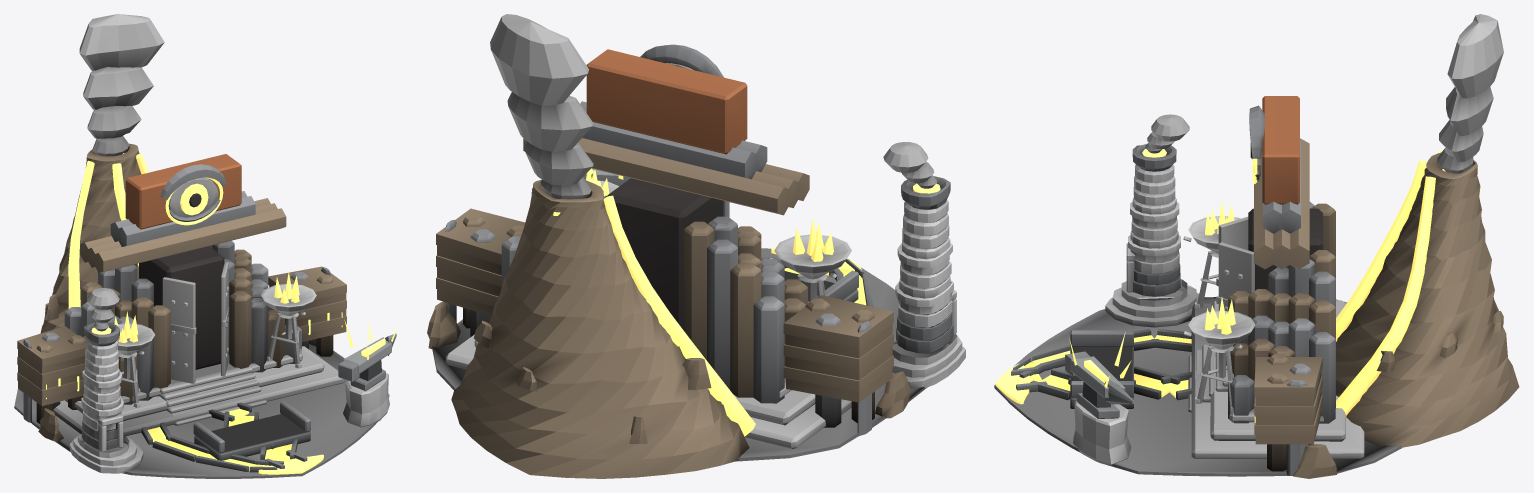
The model's file is gate-of-etna-l2.glb.
3 renders of one model, left to right at view 1: azimuth 30°, elevation 25°; view 2: azimuth 150°, elevation 25°; view 3: azimuth 270°, elevation 25°, orthographic. The views are drawn at different scales.
Parts seen in each view (by area): view 1: gate-of-etna-l2; view 2: gate-of-etna-l2; view 3: gate-of-etna-l2.
Boxes of the visible parts, <box> form: gate-of-etna-l2: <box>14,14,397,478</box>; gate-of-etna-l2: <box>427,14,965,478</box>; gate-of-etna-l2: <box>994,14,1519,478</box>.
Bounding box in the file's own units: 1.47 × 1.41 × 1.79.
